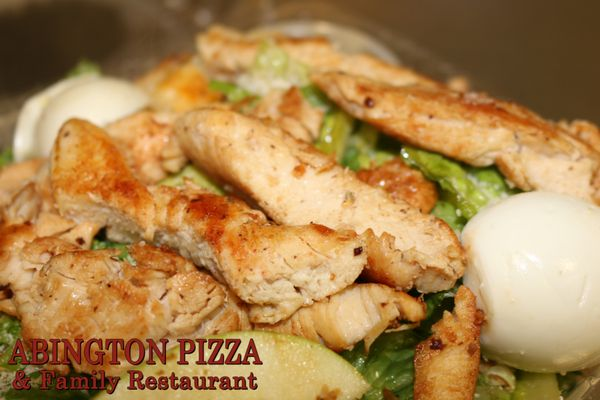curry: (399, 146, 514, 234)
